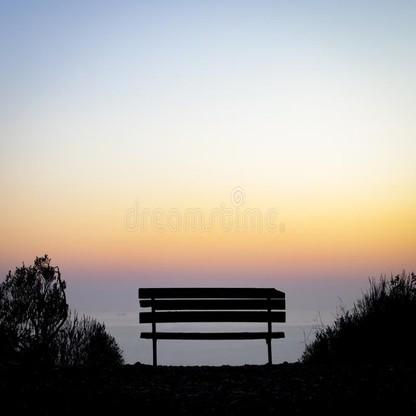obstacle: (126, 281, 307, 371)
